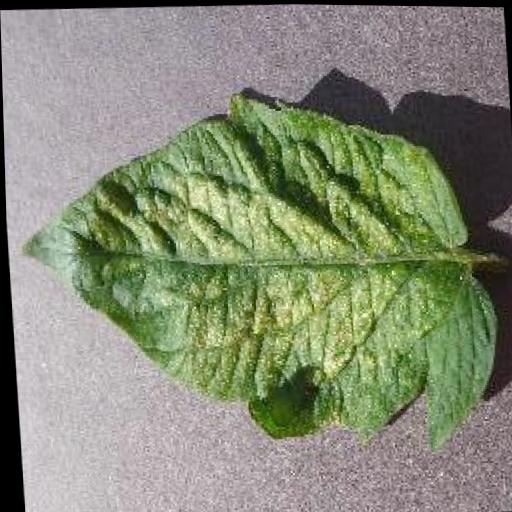Spider Mites: (6, 75, 497, 457)
